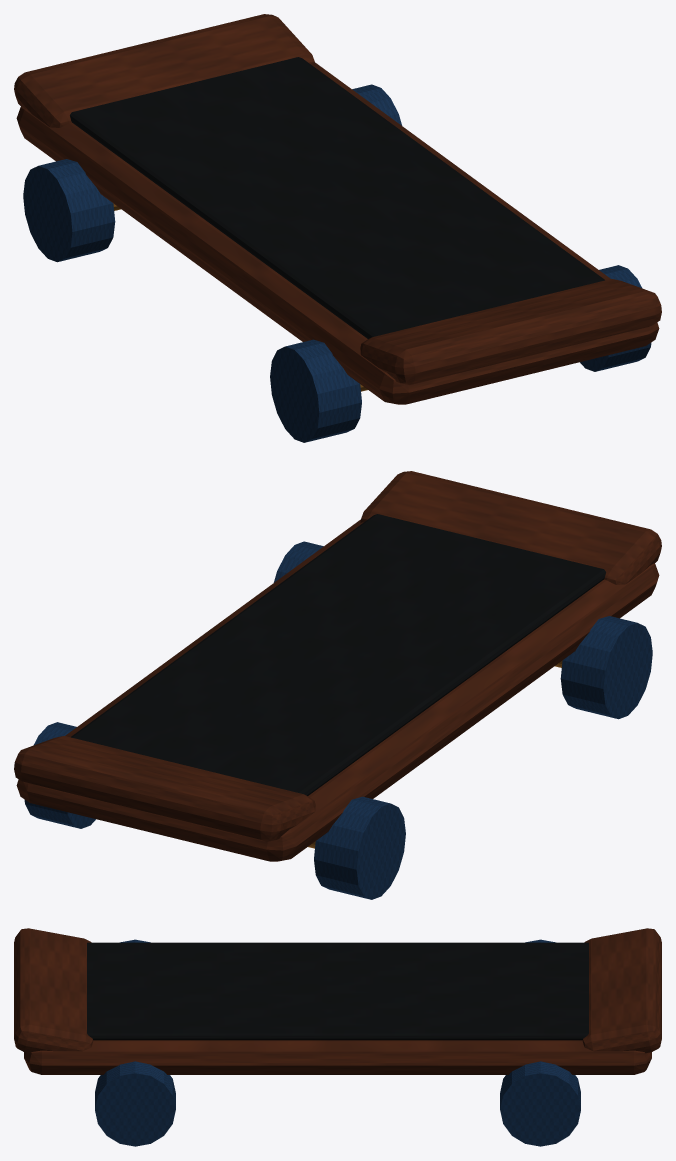
File: skateboard-v1-DdTlz1No.glb
3 views of the same model, one above another, from view 1: azimuth 30°, elevation 25°; view 2: azimuth 150°, elevation 25°; view 3: azimuth 270°, elevation 25° (orthographic). The views are drawn at different scales.
Visible parts, largest first — view 1: Dark grip tape, Rounded maple deck, Blue polyurethane wheel; view 2: Dark grip tape, Rounded maple deck, Blue polyurethane wheel; view 3: Dark grip tape, Rounded maple deck, Blue polyurethane wheel.
Part boxes in pixels (left/top/right/bottom): Dark grip tape: left=70, top=57, right=604, bottom=338; Rounded maple deck: left=14, top=14, right=661, bottom=404; Blue polyurethane wheel: left=23, top=84, right=651, bottom=442; Dark grip tape: left=71, top=514, right=605, bottom=795; Rounded maple deck: left=14, top=471, right=661, bottom=861; Blue polyurethane wheel: left=24, top=541, right=652, bottom=899; Dark grip tape: left=87, top=942, right=588, bottom=1040; Rounded maple deck: left=14, top=928, right=661, bottom=1074; Blue polyurethane wheel: left=95, top=939, right=580, bottom=1146.
Size of the model in its own units: 0.78 by 0.2807 by 1.6.
Materials: 4 (4 with a texture image).
